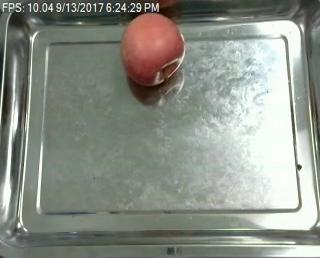apple: (120, 12, 185, 85)
